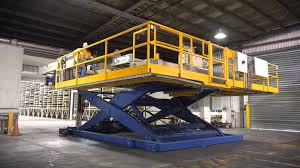Scissor Lift: (55, 19, 279, 152)
